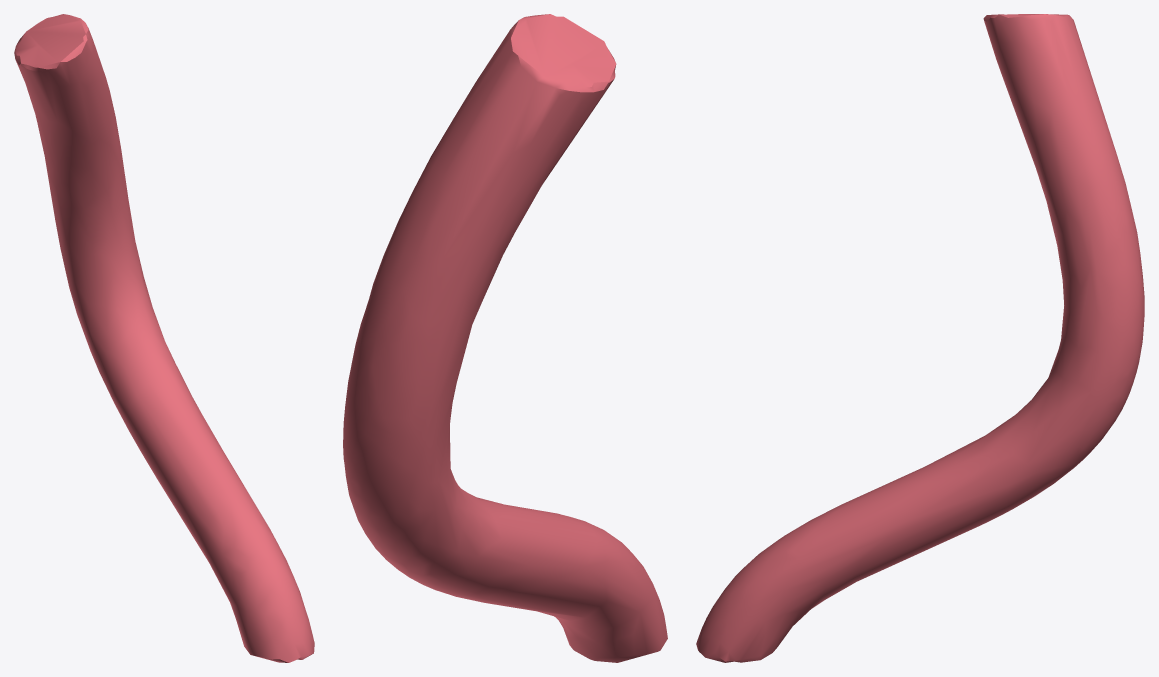
File: fma18807.glb
The picture shows the model from 3 angles, left to right: view 1: azimuth 30°, elevation 25°; view 2: azimuth 150°, elevation 25°; view 3: azimuth 270°, elevation 25°; orthographic projection. The views are drawn at different scales.
Visible parts, largest first — view 1: FMA18807; view 2: FMA18807; view 3: FMA18807.
Part boxes in pixels (box(x1,y1,x2,y2)): FMA18807: box(14, 14, 314, 662); FMA18807: box(343, 14, 667, 662); FMA18807: box(696, 14, 1144, 662).
Size of the model in its own units: 0.0273 by 0.0913 by 0.062.
